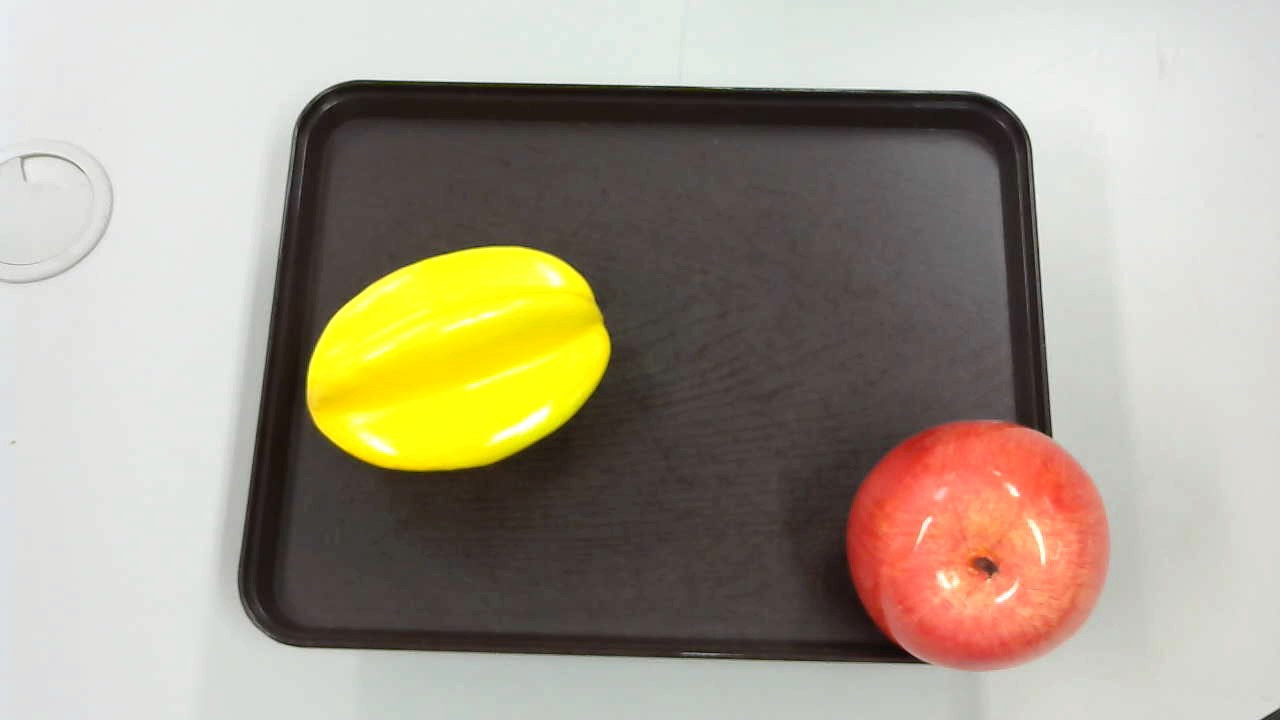red apple: (846, 419, 1112, 668)
star fruit: (297, 237, 606, 474)
